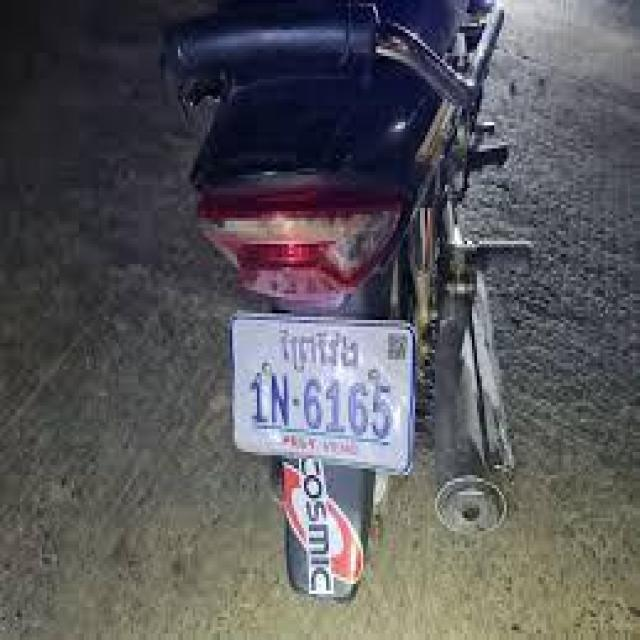Prey_Veng: (280, 323, 361, 374)
